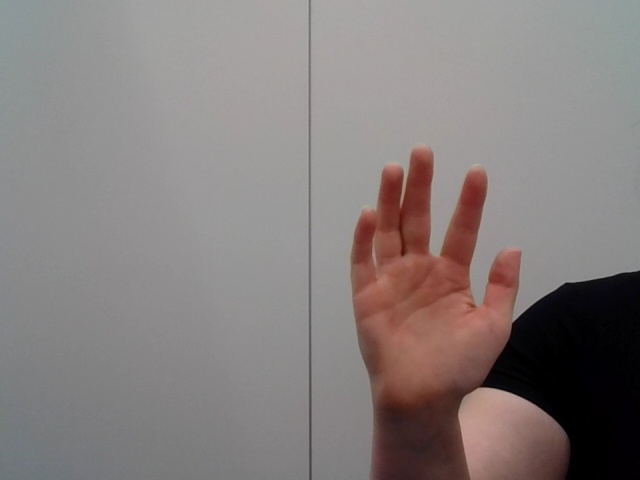left: (328, 134, 529, 427)
nada: (328, 135, 539, 416)
